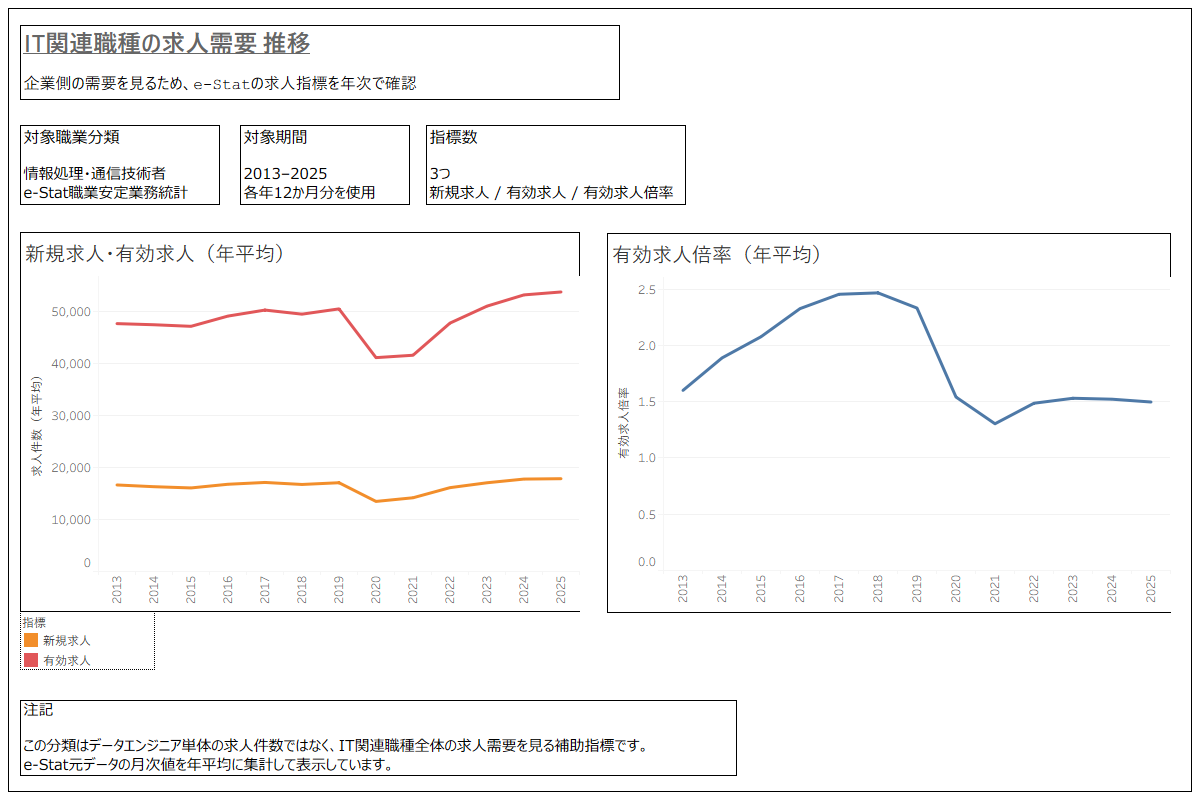

The dashboard page shown, as its layout file describes it:
{"tool":"tableau","page":{"name":"求人需要ダッシュボード","canvas":[1200,800],"ordinal":0},"visuals":[{"type":"text","box":[20,25,600,75]},{"type":"text","box":[20,125,200,80]},{"type":"text","box":[240,125,170,80]},{"type":"text","box":[426,125,260,80]},{"type":"worksheet","title":"新規求人・有効求人（年平均）","mark":"Automatic","cols":["month"],"box":[20,232,560,380]},{"type":"worksheet","title":"有効求人倍率（年平均）","mark":"Line","rows":["vtavg"],"cols":["month"],"box":[607,233,564,380]},{"type":"legend","title":"新規求人・有効求人（年平均）","param":"[federated.1cq4sqj0s202xb12s98rl193rgf8].[:Measure Names]","box":[20,611,135,59]},{"type":"text","box":[20,700,717,76]}]}

Visuals, with their boxes in screenshot pixels (x1, y1, x2, y2), scaled from the page's 1200x800 canvas onto the 1200x800 screenshot:
text: (20, 25, 620, 100)
text: (20, 125, 220, 205)
text: (240, 125, 410, 205)
text: (426, 125, 686, 205)
"新規求人・有効求人（年平均）" worksheet: (20, 232, 580, 612)
"有効求人倍率（年平均）" worksheet (Line marks): (607, 233, 1171, 613)
"新規求人・有効求人（年平均）" legend: (20, 611, 155, 670)
text: (20, 700, 737, 776)
